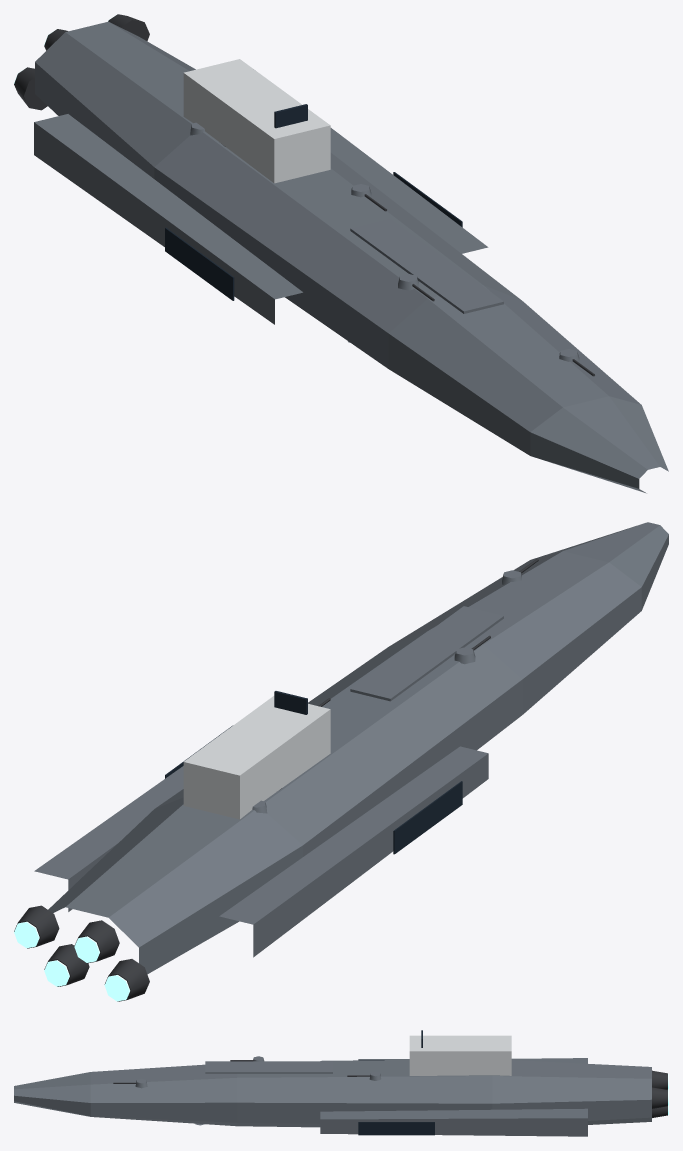
File: space_ship_cruiser_mk3.glb
3 renders of one model, top to bottom at view 1: azimuth 30°, elevation 25°; view 2: azimuth 150°, elevation 25°; view 3: azimuth 270°, elevation 25°, orthographic. The views are drawn at different scales.
Visible parts, largest first — view 1: body, hangar_r, engine_0; view 2: body, hangar_r, engine_1, engine_0, engine_3, engine_2; view 3: body, hangar_l, engine_3, engine_1.
Boxes of the visible parts, <box> form: body: <box>34,21,668,493</box>; hangar_r: <box>165,227,234,300</box>; engine_0: <box>14,67,47,110</box>; body: <box>34,522,668,974</box>; hangar_r: <box>393,781,462,854</box>; engine_1: <box>74,920,119,963</box>; engine_0: <box>104,959,149,1001</box>; engine_3: <box>14,905,59,948</box>; engine_2: <box>44,944,89,986</box>; body: <box>14,1030,651,1136</box>; hangar_l: <box>358,1122,434,1135</box>; engine_3: <box>652,1087,668,1108</box>; engine_1: <box>652,1070,668,1089</box>.
Size of what is drawn, in the model's own units: 18.56 by 12.07 by 81.48.
